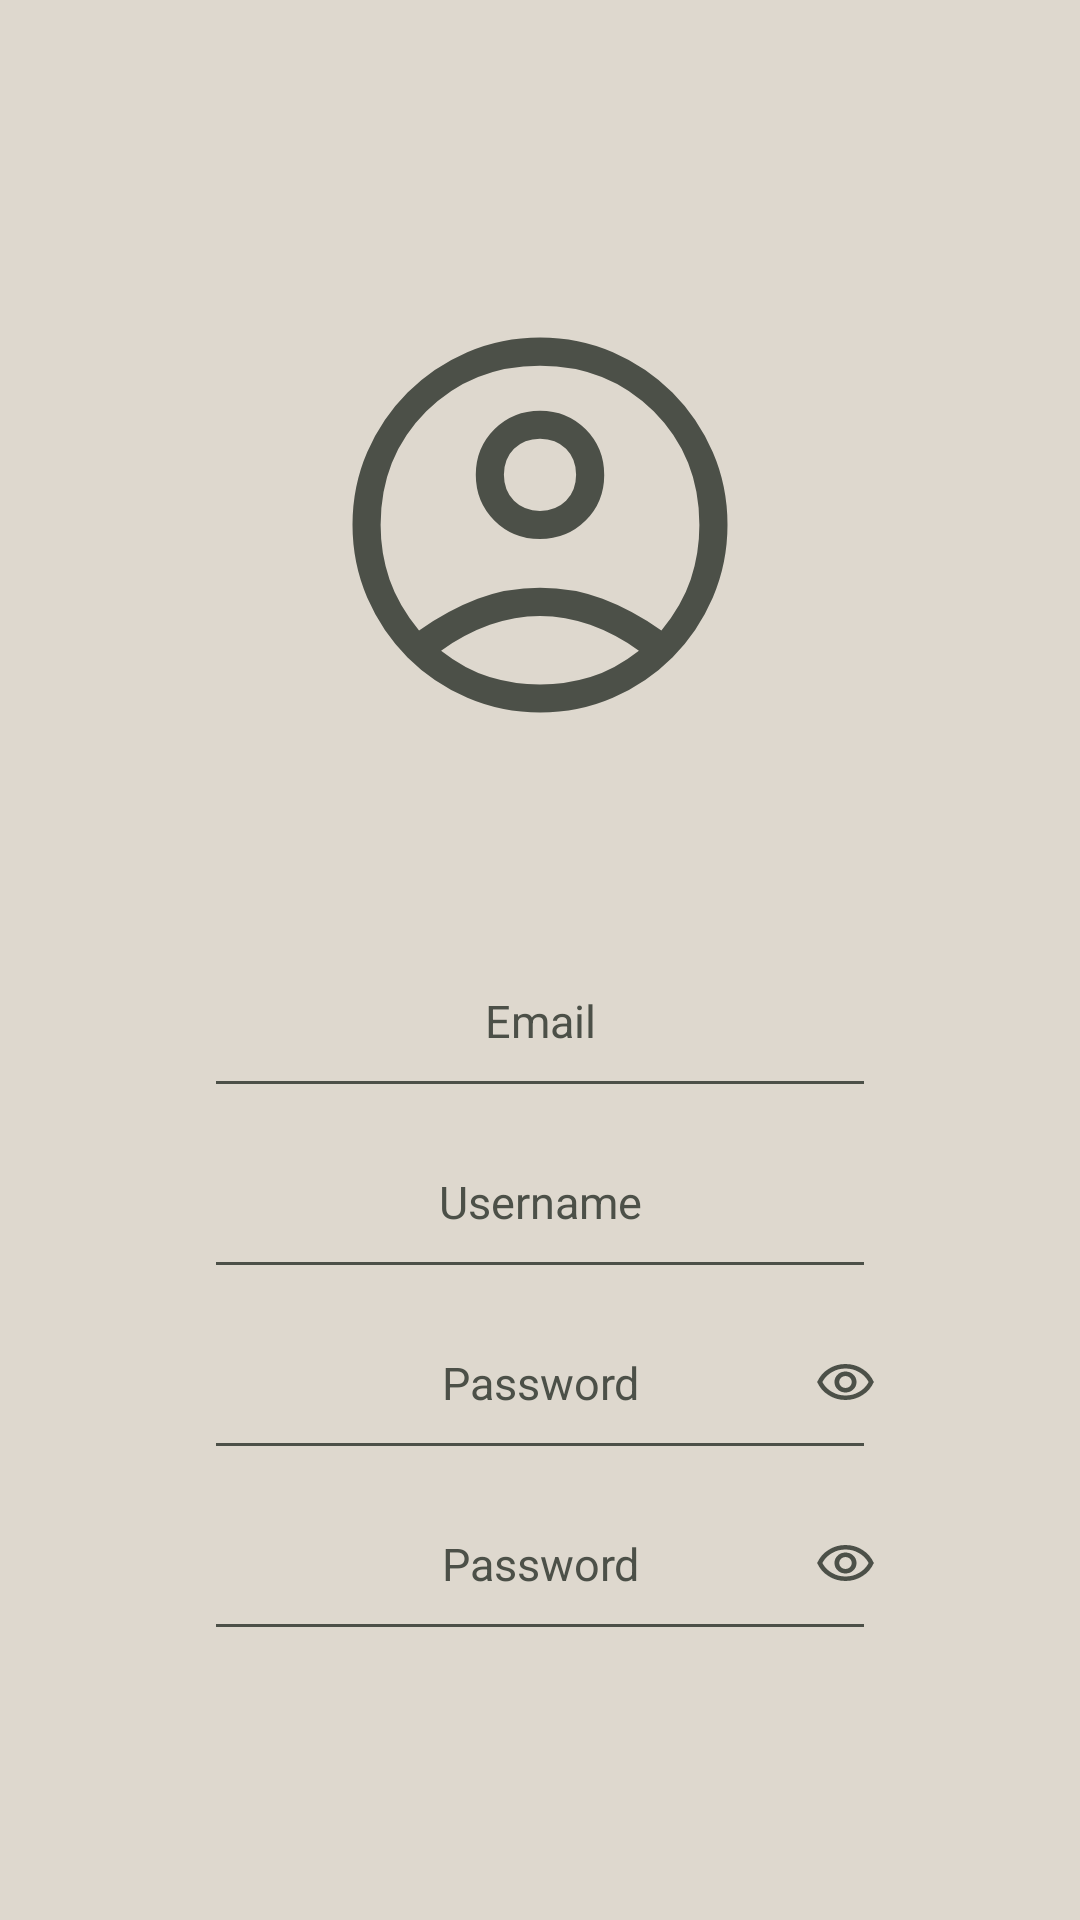

Locate icon controls on the screen. Image size 1080 x 1920, boxes as {"x1": x1, "y1": y1, "x2": x2, "y2": y2}.
visibility: {"x1": 817, "y1": 1364, "x2": 874, "y2": 1400}, {"x1": 817, "y1": 1545, "x2": 874, "y2": 1581}
